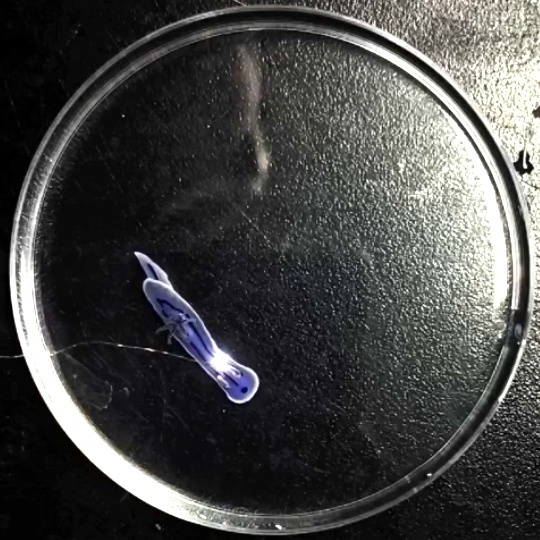sea-slug: (85, 87, 242, 389)
